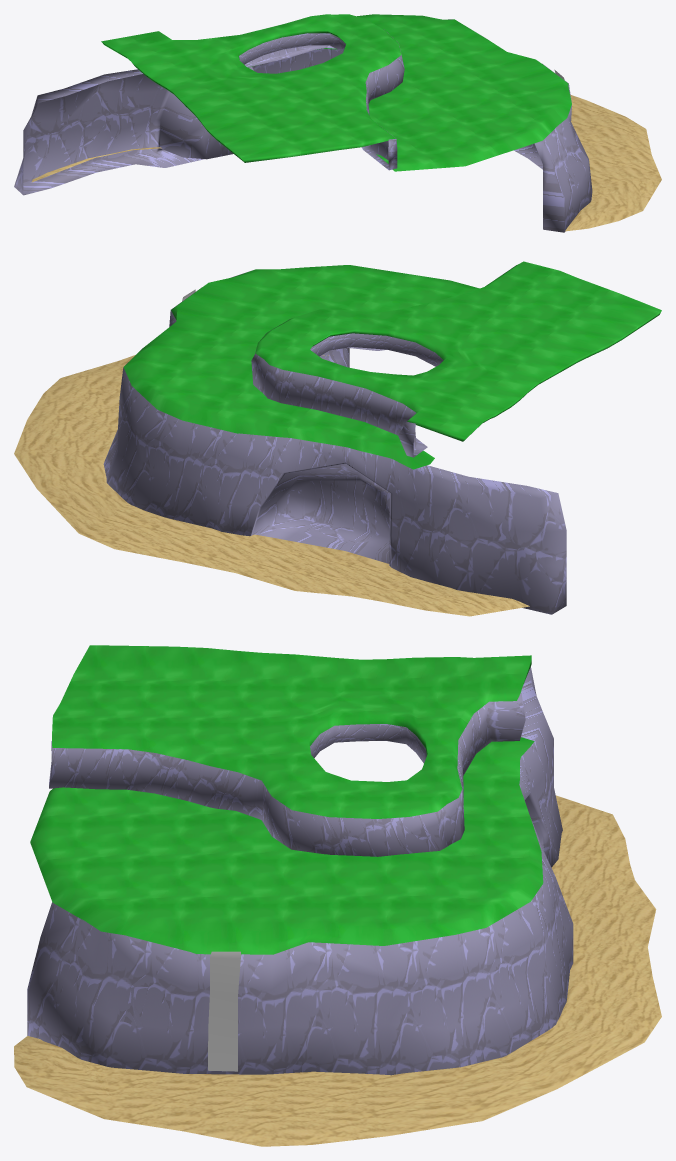
File: BeachCliff3.fbx
3 views of the same model, one above another, from view 1: azimuth 30°, elevation 25°; view 2: azimuth 150°, elevation 25°; view 3: azimuth 270°, elevation 25° (orthographic). The views are drawn at different scales.
Visible parts, largest first — view 1: polySurface8, polySurface4, polySurface5, polySurface6, polySurface2, polySurface7; view 2: polySurface4, polySurface8, polySurface5, polySurface6, polySurface2, polySurface7; view 3: polySurface4, polySurface5, polySurface6, polySurface8, polySurface2, polySurface3, polySurface7.
Part boxes in pixels (box(x1,y1,x2,y2)): polySurface8: box(101, 14, 401, 162); polySurface4: box(14, 19, 592, 232); polySurface5: box(248, 14, 571, 171); polySurface6: box(31, 95, 661, 231); polySurface2: box(244, 29, 404, 170); polySurface7: box(239, 33, 345, 64); polySurface4: box(103, 273, 566, 614); polySurface8: box(255, 261, 661, 441); polySurface5: box(123, 265, 479, 469); polySurface6: box(14, 355, 529, 616); polySurface2: box(251, 265, 516, 457); polySurface7: box(310, 333, 443, 366); polySurface4: box(27, 666, 573, 1075); polySurface5: box(30, 737, 543, 954); polySurface6: box(14, 795, 661, 1146); polySurface8: box(52, 645, 531, 818); polySurface2: box(49, 693, 525, 856); polySurface3: box(208, 951, 240, 1071); polySurface7: box(310, 724, 426, 763).
Bounding box in the file's own units: 1128 × 278 × 841.
